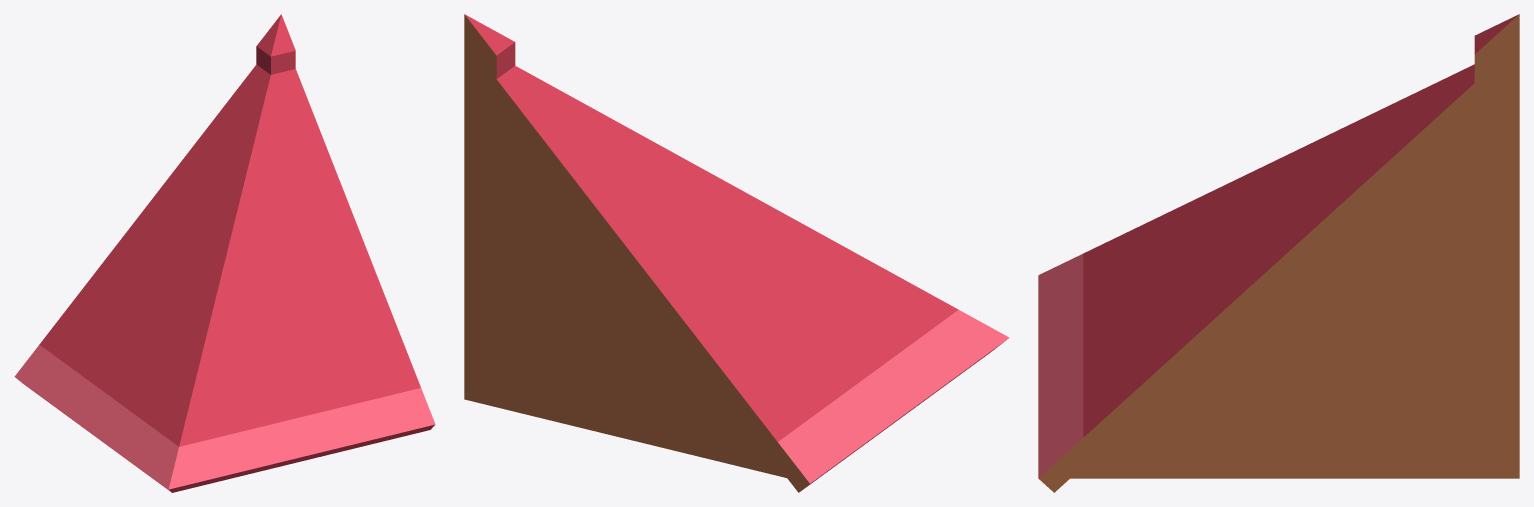
File: roofHighCorner.fbx
3 renders of one model, left to right at view 1: azimuth 30°, elevation 25°; view 2: azimuth 150°, elevation 25°; view 3: azimuth 270°, elevation 25°, orthographic. The views are drawn at different scales.
Parts seen in each view (by area): view 1: roofHighCorner; view 2: roofHighCorner; view 3: roofHighCorner.
Part boxes in pixels (x1,y1,x2,y2): roofHighCorner: (14,14,435,492); roofHighCorner: (464,14,1009,492); roofHighCorner: (1038,14,1519,492).
Bounding box in the file's own units: 10.71 × 11.76 × 10.71.
